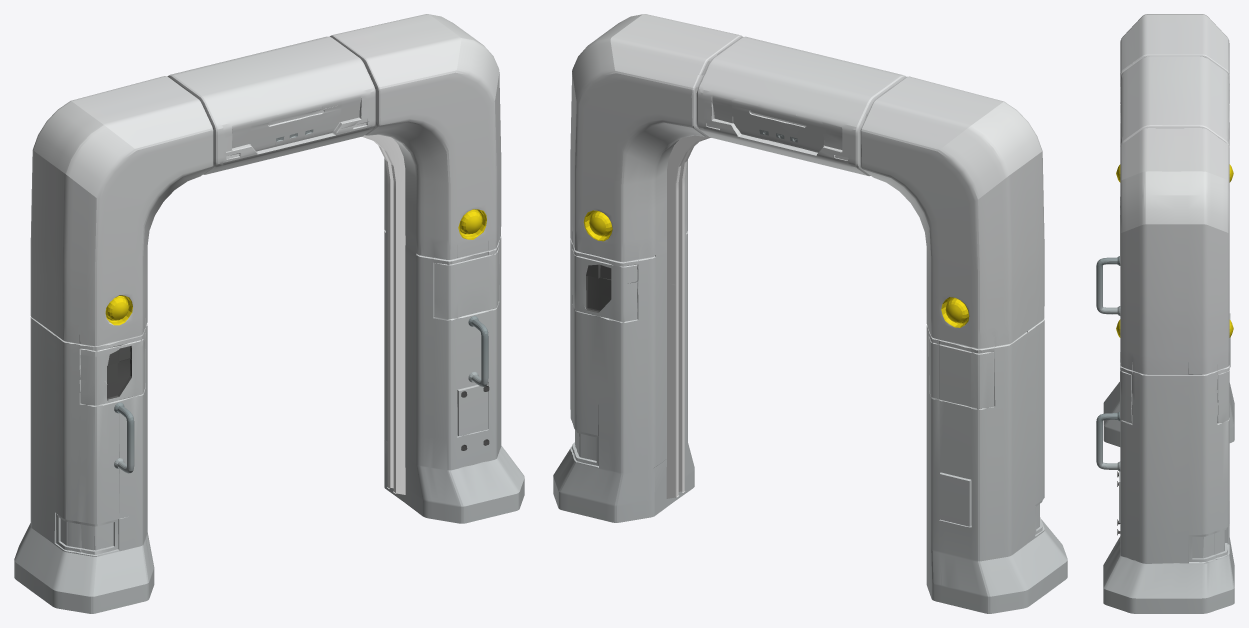
Rendered from FutureGate.fbx.
3 views of the same model, side by side, from view 1: azimuth 30°, elevation 25°; view 2: azimuth 150°, elevation 25°; view 3: azimuth 270°, elevation 25° (orthographic). The views are drawn at different scales.
Parts seen in each view (by area): view 1: sci fi gate; view 2: sci fi gate; view 3: sci fi gate.
Part boxes in pixels (x1,y1,x2,y2): sci fi gate: (14,14,524,613); sci fi gate: (553,14,1067,613); sci fi gate: (1096,14,1234,613).
Bounding box in the file's own units: 15.85 × 15.02 × 4.48.
Materials: 1 (1 with a texture image).
